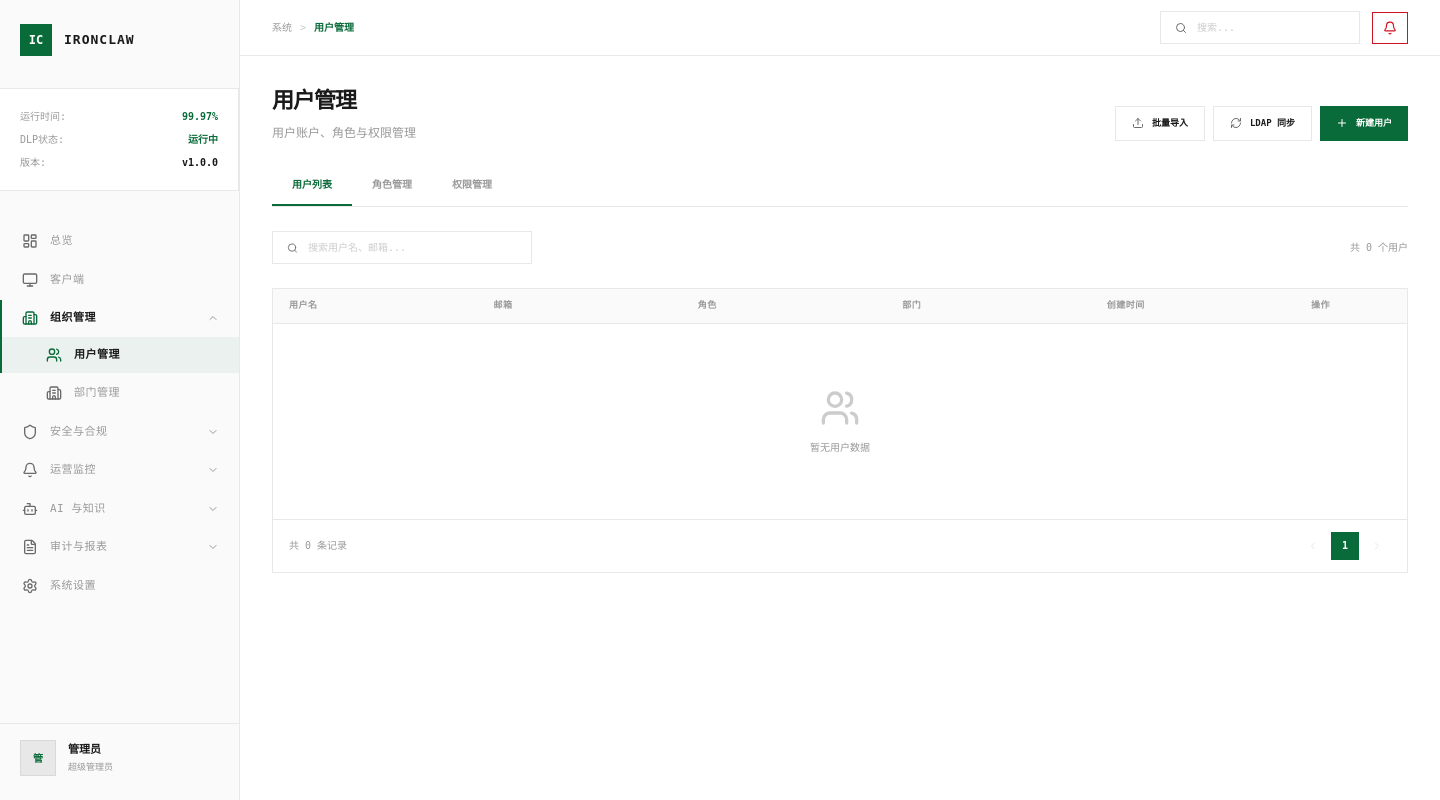
Scenario: 用户管理 › 新建用户弹窗 › 弹窗应包含所有表单字段
The width and height of the screenshot is (1440, 800).
What coordinates should you click on to do the following:
click the button "新建用户"
I would click on:
 (1364, 124)
Its box is [1320,106,1408,142].
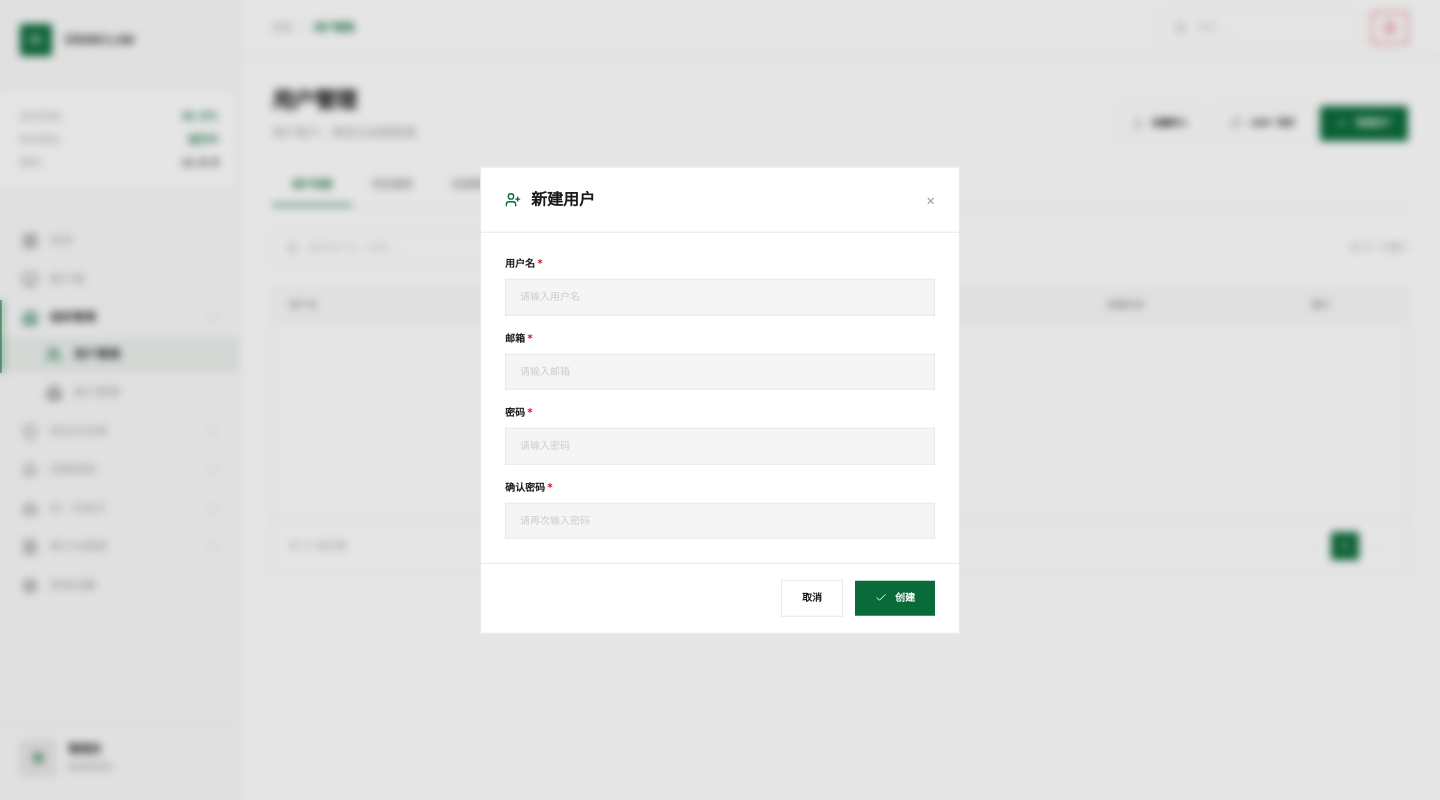
Check: the field with placeholder "请输入用户名" is shown, box [505,279,935,315]
Check: the field with placeholder "请输入邮箱" is shown, box [505,354,935,390]
Check: the password field with placeholder "请输入密码" is shown, box [505,428,935,464]
